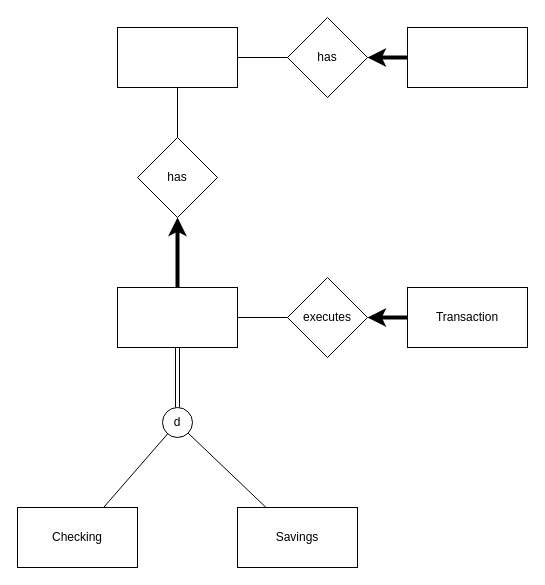
This 545x585 diagram has some shape labels left out. Here are the shapes that lost their labels. From the top down, the centre of each, then its label:
At point 177,57: "Customer".
At point 467,57: "Chat Log".
At point 177,317: "Account".
